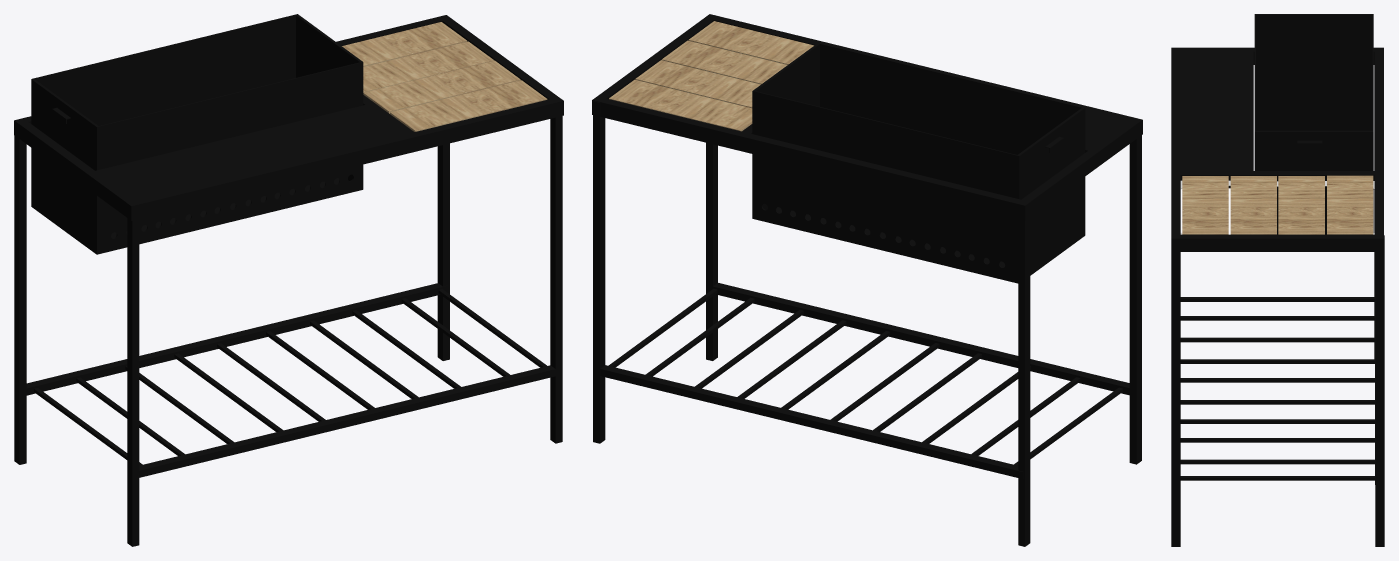
Rendered from mangal01.glb.
3 renders of one model, left to right at view 1: azimuth 30°, elevation 25°; view 2: azimuth 150°, elevation 25°; view 3: azimuth 270°, elevation 25°, orthographic. The views are drawn at different scales.
Parts seen in each view (by area): view 1: Cube.004, Plane.004, Cube, Cube.014, Cube.015, Cube.013, Cube.006, Cube.003; view 2: Plane.004, Cube.004, Cube.006, Cube.013, Cube.014, Cube.015, Cube, Cube.003; view 3: Cube.004, Plane.004, Cube.003, Cube.006, Cube.013, Cube.014, Cube.015, Cube, Cube.002.
Boxes of the visible parts, x1,y1,x2,y2 form: Cube.004: (14, 15, 562, 546); Plane.004: (31, 14, 363, 254); Cube: (126, 97, 563, 220); Cube.014: (363, 60, 520, 113); Cube.015: (390, 80, 547, 131); Cube.013: (363, 41, 494, 92); Cube.006: (342, 22, 467, 66); Cube.003: (439, 16, 558, 99); Plane.004: (752, 43, 1085, 283); Cube.004: (592, 96, 1141, 546); Cube.006: (609, 79, 752, 131); Cube.013: (635, 60, 760, 108); Cube.014: (661, 40, 787, 84); Cube.015: (688, 21, 813, 64); Cube: (705, 14, 1142, 137); Cube.003: (598, 17, 714, 98); Cube.004: (1171, 47, 1384, 546); Plane.004: (1254, 14, 1373, 234); Cube.003: (1178, 234, 1381, 251); Cube.006: (1327, 175, 1373, 234); Cube.013: (1278, 176, 1324, 234); Cube.014: (1230, 176, 1276, 234); Cube.015: (1182, 176, 1228, 234); Cube: (1171, 47, 1180, 251); Cube.002: (1180, 171, 1381, 188).
Bounding box in the file's own units: 1.2 × 1.01 × 0.5648.
2 materials, 1 textured.
